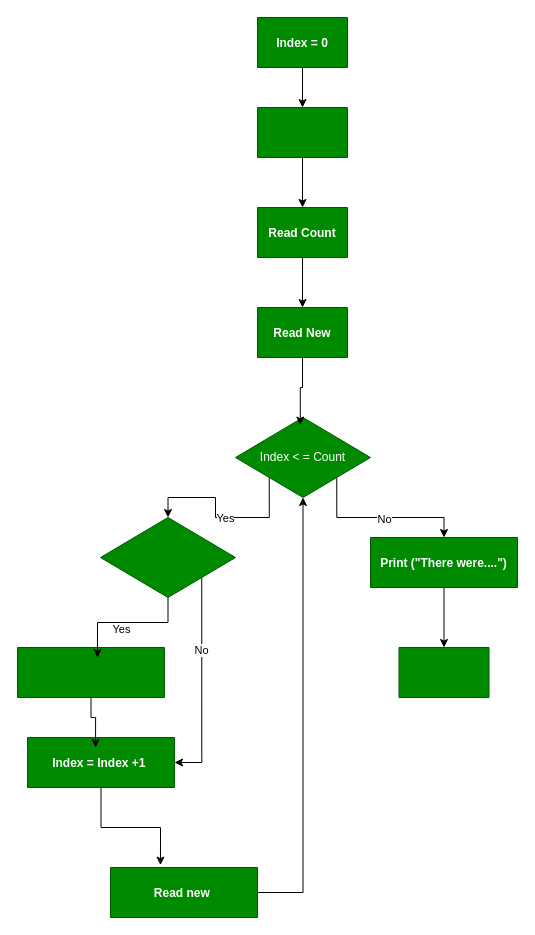
This 535x935 diagram has some shape labels left out. The box of each missing label's shape, as (x1, y1, x2, y2) in pixels:
End: (398, 646, 489, 698)
New < 0: (100, 516, 236, 598)
Sum = 0: (256, 106, 348, 158)
Sum = Sum +1: (16, 646, 164, 698)
